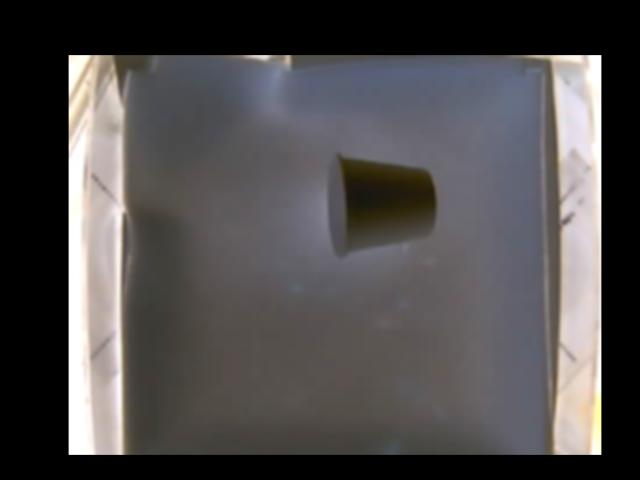Cup: (327, 153, 436, 256)
